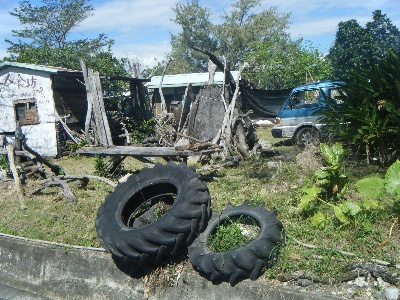tire: (94, 160, 212, 269), (187, 199, 286, 286)
